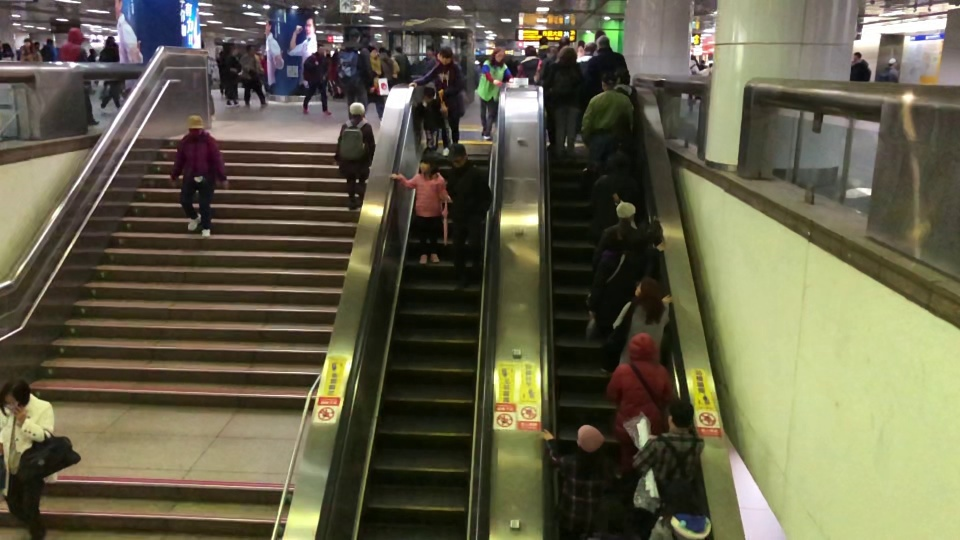person_head: (661, 476, 707, 526), (662, 396, 697, 435), (0, 378, 33, 414), (627, 331, 659, 366), (575, 419, 604, 454), (603, 223, 632, 248), (633, 275, 661, 300), (613, 197, 637, 225), (445, 141, 467, 168), (607, 148, 630, 173), (184, 112, 206, 137), (612, 110, 632, 135), (417, 154, 438, 177), (347, 99, 366, 123), (437, 43, 453, 67), (612, 65, 630, 86), (66, 26, 85, 45), (557, 44, 577, 62), (598, 71, 616, 91), (575, 40, 596, 57), (490, 46, 507, 65), (421, 86, 437, 104), (347, 26, 361, 45), (596, 33, 611, 49), (365, 44, 379, 60), (524, 44, 537, 57), (424, 42, 435, 57), (559, 34, 569, 50), (104, 34, 116, 47), (245, 42, 255, 57), (538, 34, 549, 47), (223, 43, 234, 55), (886, 56, 899, 66), (315, 44, 325, 56), (23, 37, 33, 48), (852, 50, 861, 61), (393, 45, 403, 54)
person_vbox: (589, 227, 665, 372), (604, 329, 675, 479), (630, 395, 704, 534), (540, 419, 611, 540), (439, 143, 494, 288), (169, 114, 229, 240), (385, 154, 449, 266), (409, 45, 466, 157), (613, 275, 675, 376), (579, 73, 633, 169), (0, 376, 55, 466), (334, 99, 377, 211), (590, 151, 644, 239), (57, 26, 101, 127), (589, 200, 654, 268), (648, 478, 715, 540), (333, 28, 375, 120), (550, 45, 583, 155), (477, 47, 515, 140), (543, 37, 573, 149), (586, 35, 631, 100), (596, 112, 638, 169), (301, 44, 332, 116), (363, 43, 389, 126), (98, 34, 124, 113), (239, 41, 269, 109), (416, 86, 444, 153), (217, 44, 243, 108), (514, 44, 543, 82), (390, 45, 410, 86), (850, 49, 872, 82), (877, 56, 902, 84), (576, 40, 597, 71), (17, 37, 43, 62), (535, 35, 552, 57)
